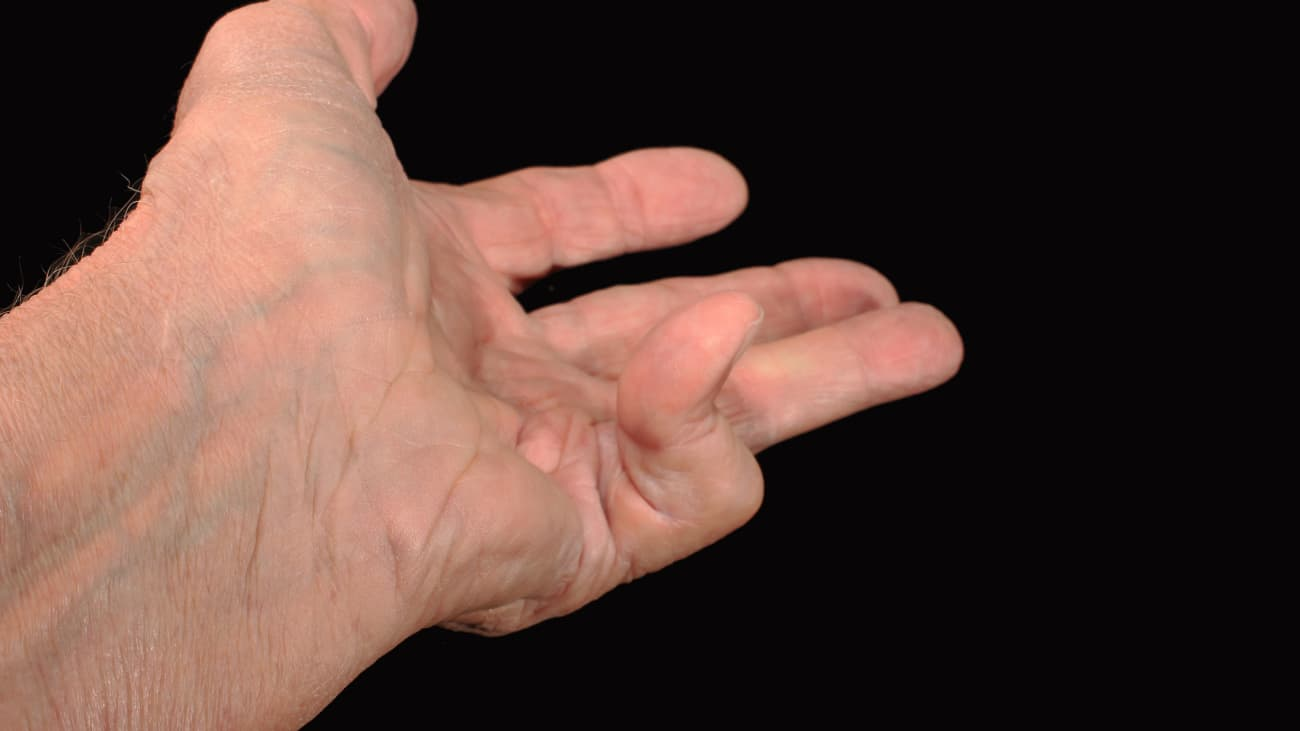finger: (628, 316, 980, 481), (601, 294, 769, 519), (515, 253, 936, 339), (442, 142, 760, 251)
